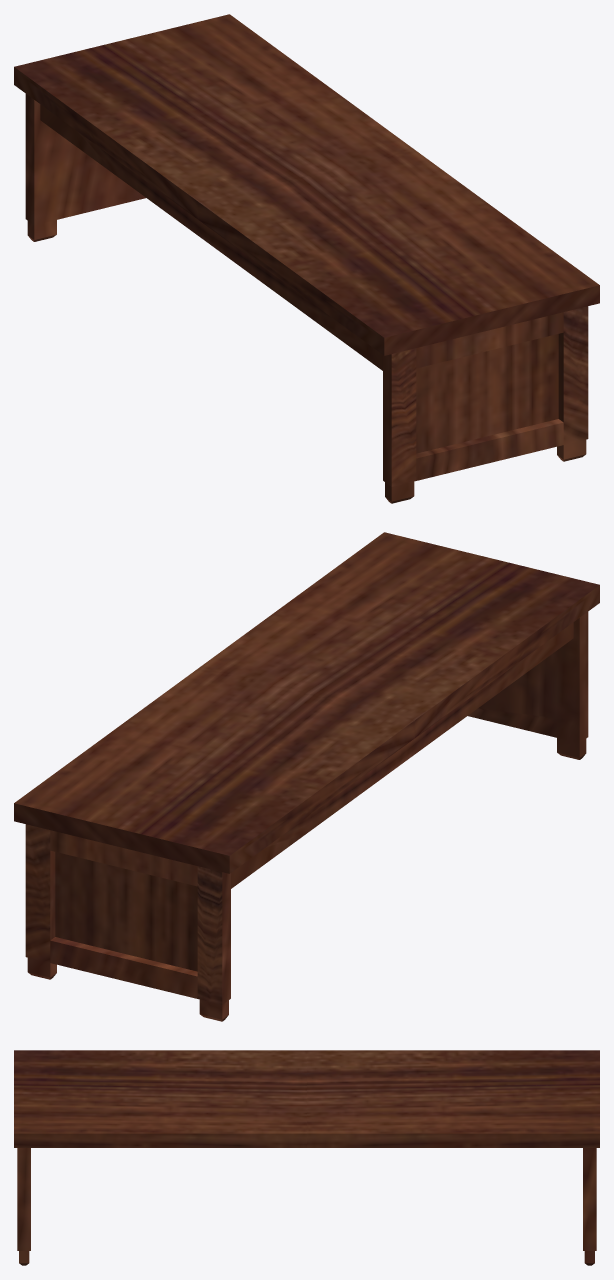
The model's file is Mesa_Menu.fbx.
3 renders of one model, top to bottom at view 1: azimuth 30°, elevation 25°; view 2: azimuth 150°, elevation 25°; view 3: azimuth 270°, elevation 25°, orthographic. The views are drawn at different scales.
Parts seen in each view (by area): view 1: Mesa; view 2: Mesa; view 3: Mesa.
Boxes of the visible parts, x1,y1,x2,y2 form: Mesa: (14, 14, 599, 503); Mesa: (14, 532, 599, 1021); Mesa: (14, 1050, 599, 1265).
Size of the model in its own units: 200 by 153 by 595.
1 material, 1 textured.
